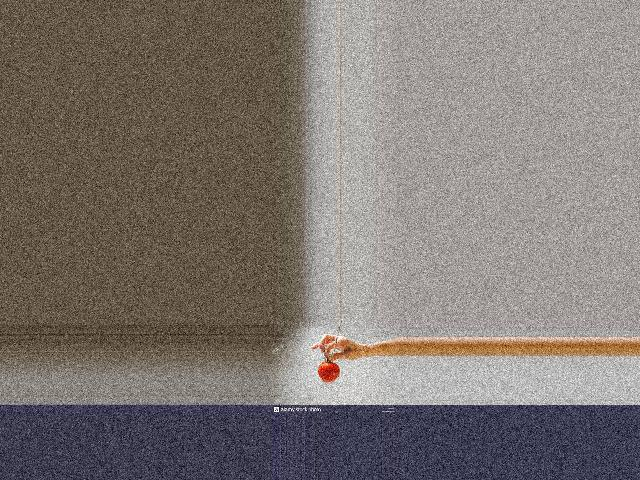tomato: (319, 362, 341, 383)
